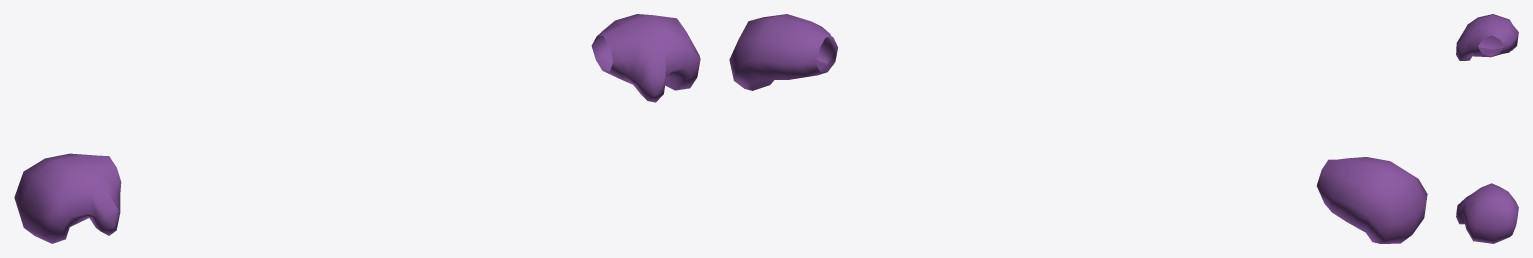
The model's file is Body_Purple_Hand.fbx.
3 views of the same model, side by side, from view 1: azimuth 30°, elevation 25°; view 2: azimuth 150°, elevation 25°; view 3: azimuth 270°, elevation 25° (orthographic). The views are drawn at different scales.
Parts seen in each view (by area): view 1: Body_Purple_Hand; view 2: Body_Purple_Hand; view 3: Body_Purple_Hand.
Boxes of the visible parts, left/top/right/bottom form: Body_Purple_Hand: left=14, top=14, right=700, bottom=243; Body_Purple_Hand: left=729, top=14, right=1427, bottom=243; Body_Purple_Hand: left=1456, top=14, right=1518, bottom=243.
Size of the model in its own units: 130 by 13.15 by 17.22.
